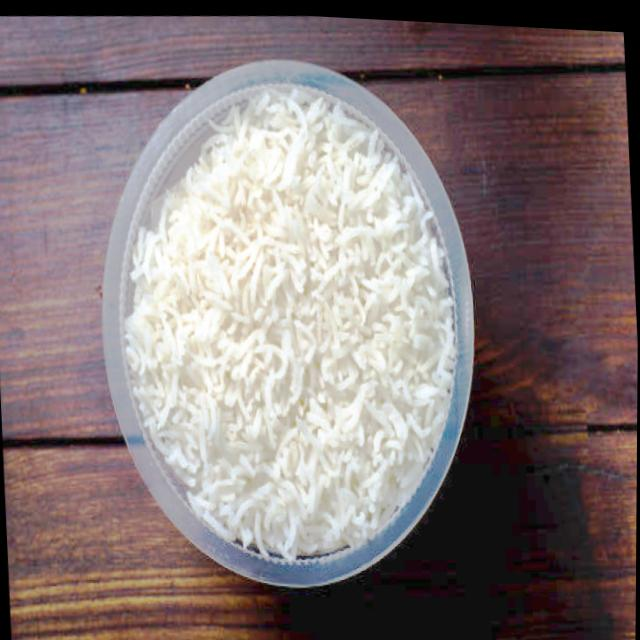rice: (108, 70, 468, 579)
